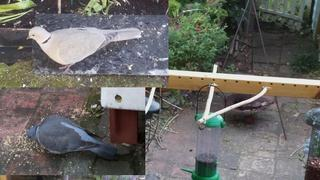collared dove: (27, 27, 142, 73)
wood pigeon: (27, 114, 119, 161)
